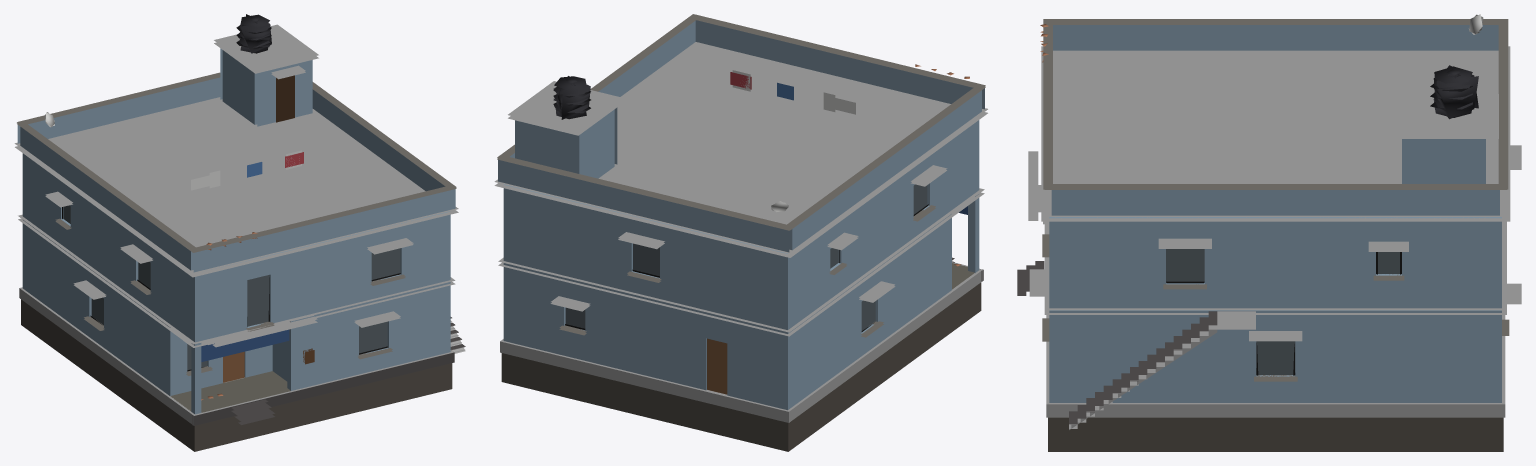
File: tn_house_12x14_2_far.glb
The picture shows the model from 3 angles, left to right: view 1: azimuth 30°, elevation 25°; view 2: azimuth 150°, elevation 25°; view 3: azimuth 270°, elevation 25°; orthographic projection. The views are drawn at different scales.
Parts seen in each view (by area): view 1: tn_house_12x14_2; view 2: tn_house_12x14_2; view 3: tn_house_12x14_2.
Boxes of the visible parts, x1,y1,x2,y2 form: tn_house_12x14_2: (14,14,465,451); tn_house_12x14_2: (494,14,987,451); tn_house_12x14_2: (1017,14,1521,451).
Bounding box in the file's own units: 13.66 × 12 × 15.61.
